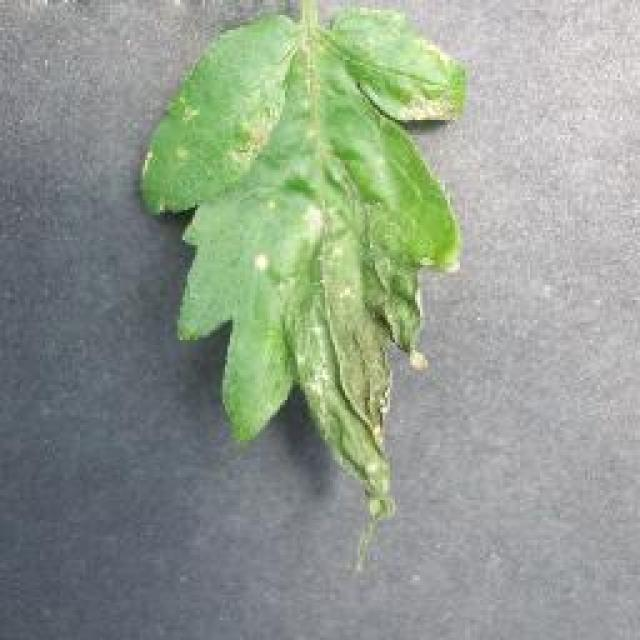leaf blight: (136, 6, 461, 527)
